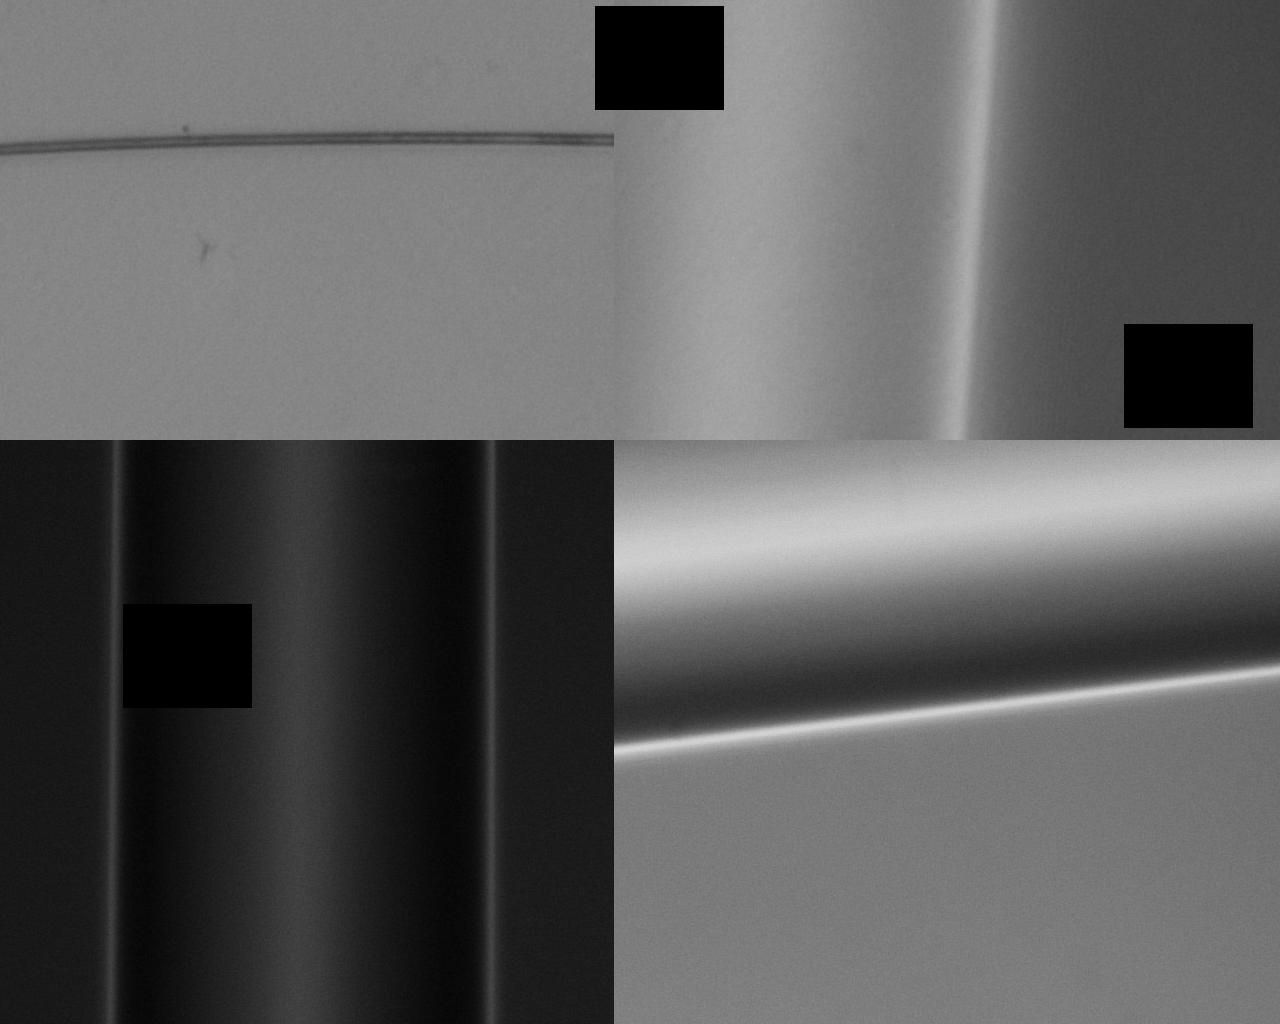fiber: (716, 532, 1280, 948), (305, 327, 536, 1024), (716, 0, 883, 327), (369, 180, 716, 327)
